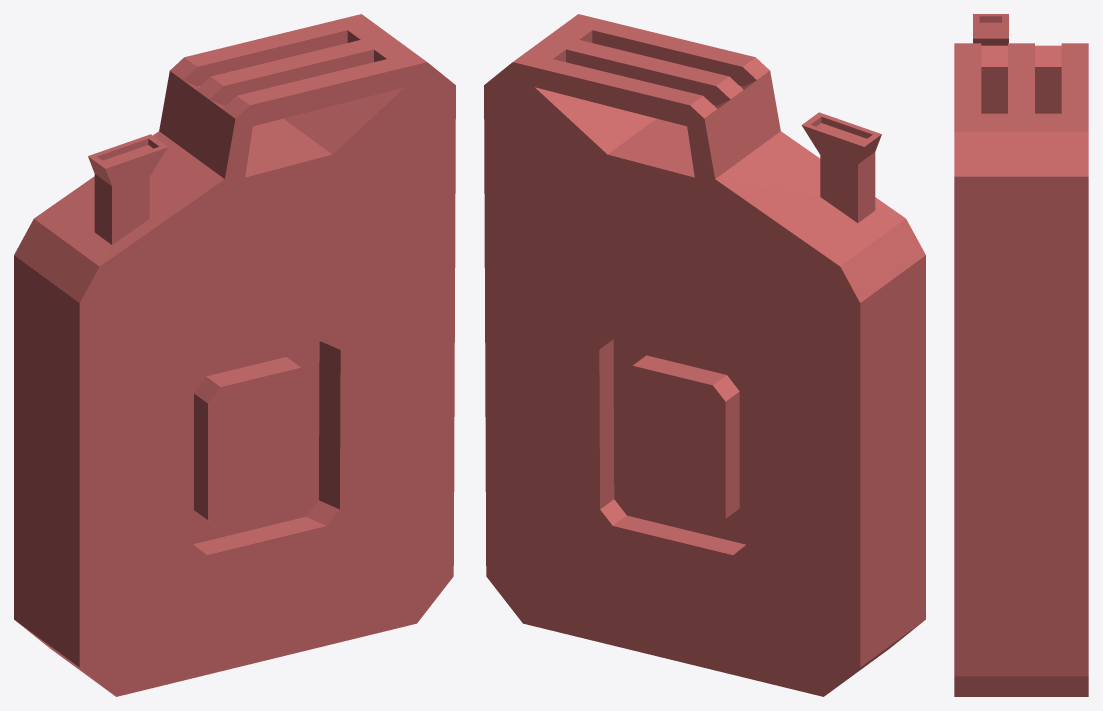
File: petrol.fbx
3 renders of one model, left to right at view 1: azimuth 30°, elevation 25°; view 2: azimuth 150°, elevation 25°; view 3: azimuth 270°, elevation 25°, orthographic. The views are drawn at different scales.
Visible parts, largest first — view 1: Cube; view 2: Cube; view 3: Cube.
Part boxes in pixels (left/top/right/bottom): Cube: left=14, top=14, right=455, bottom=696; Cube: left=484, top=14, right=925, bottom=696; Cube: left=954, top=14, right=1088, bottom=696.
Bounding box in the file's own units: 74.06 × 105 × 22.4.
